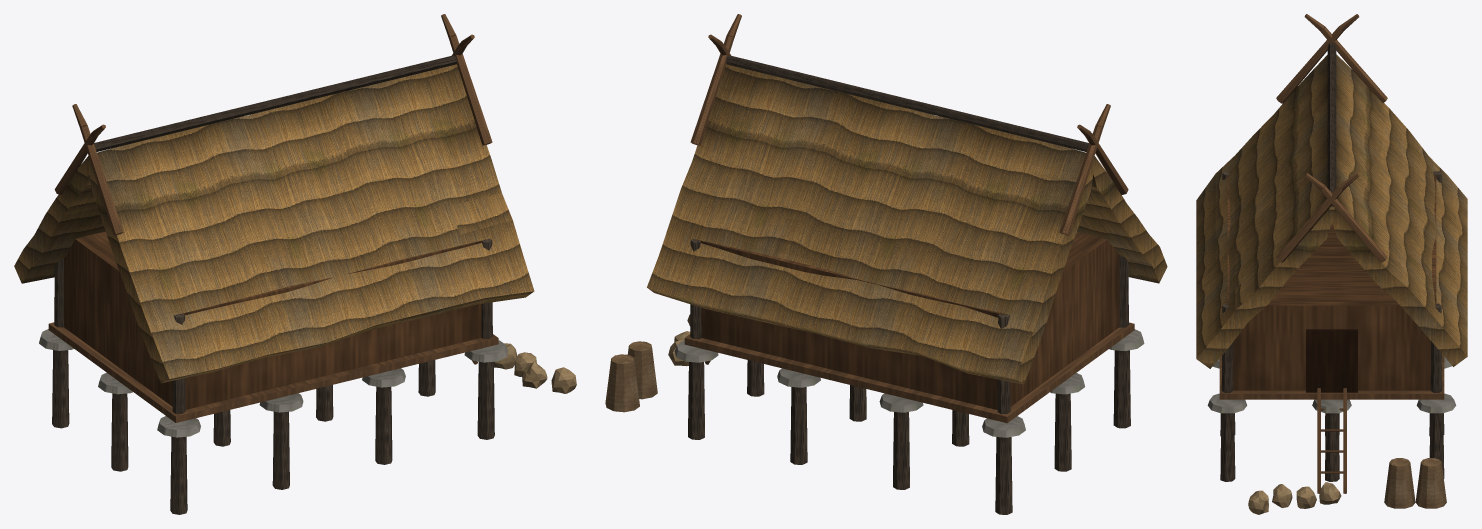
The model's file is granaio_comune.glb.
3 renders of one model, left to right at view 1: azimuth 30°, elevation 25°; view 2: azimuth 150°, elevation 25°; view 3: azimuth 270°, elevation 25°, orthographic. The views are drawn at different scales.
Parts seen in each view (by area): view 1: granaio_comune; view 2: granaio_comune; view 3: granaio_comune.
Boxes of the visible parts, left/top/right/bottom form: granaio_comune: left=14, top=14, right=576, bottom=514; granaio_comune: left=605, top=14, right=1167, bottom=514; granaio_comune: left=1196, top=14, right=1467, bottom=514.
Size of the model in its own units: 8.78 by 6.74 by 5.2.
Materials: 8 (8 with a texture image).
